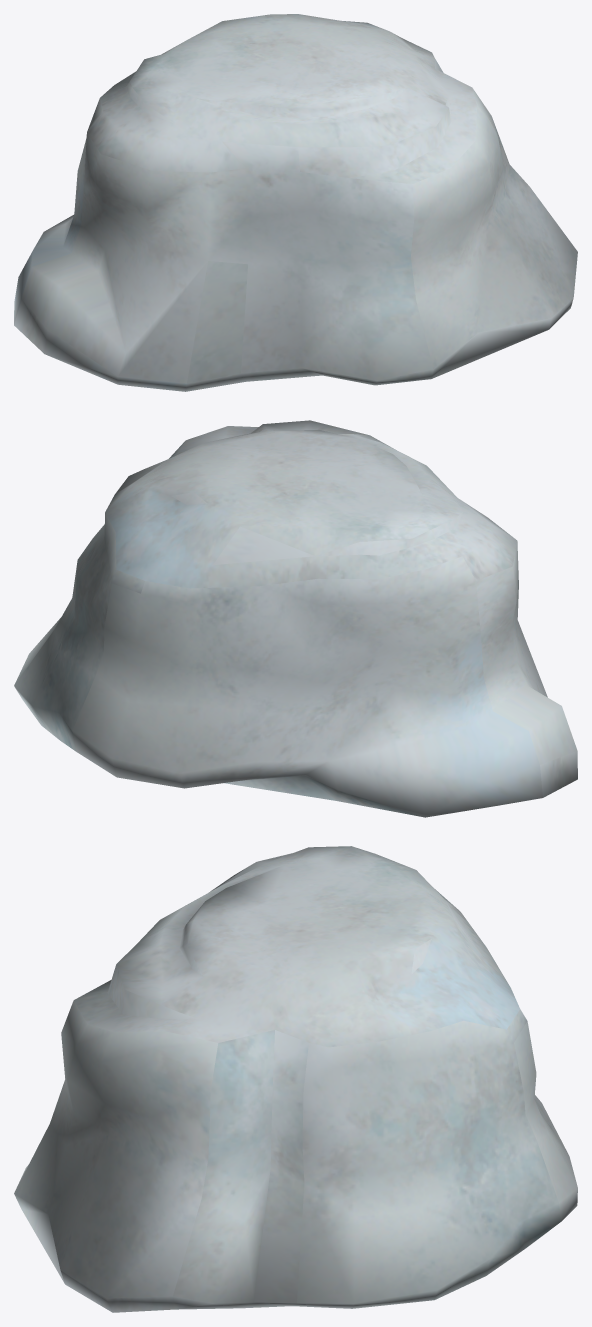
Rendered from P_RockDesert_Rock15.obj.
3 views of the same model, one above another, from view 1: azimuth 30°, elevation 25°; view 2: azimuth 150°, elevation 25°; view 3: azimuth 270°, elevation 25° (orthographic). The views are drawn at different scales.
Size of the model in its own units: 4.74 by 2.49 by 4.03.
